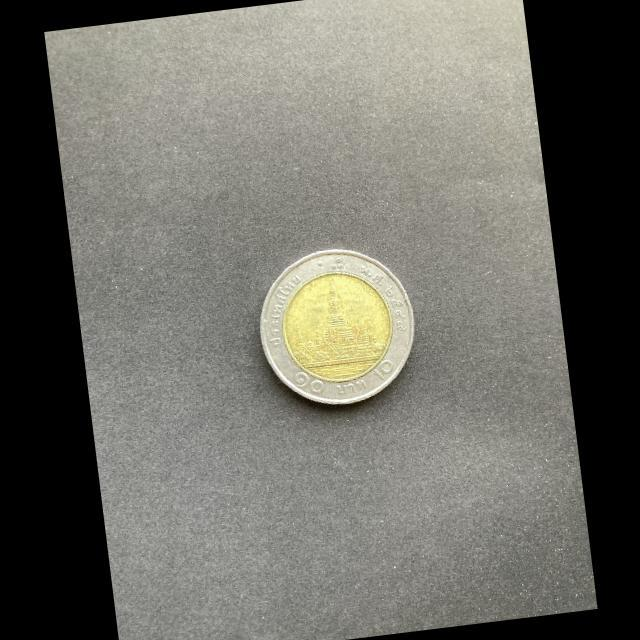10 Bath: (261, 250, 421, 410)
